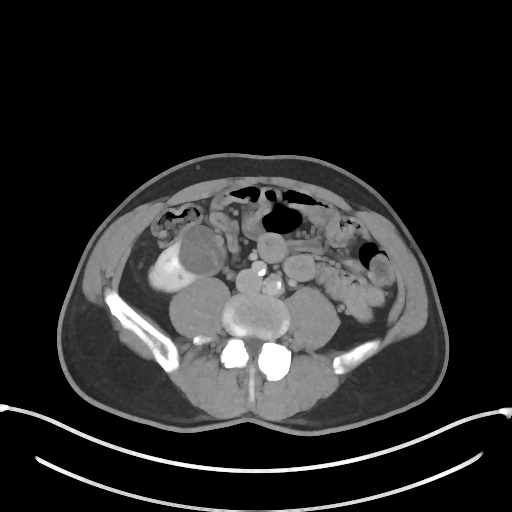Lesion: (175, 226, 225, 275)
